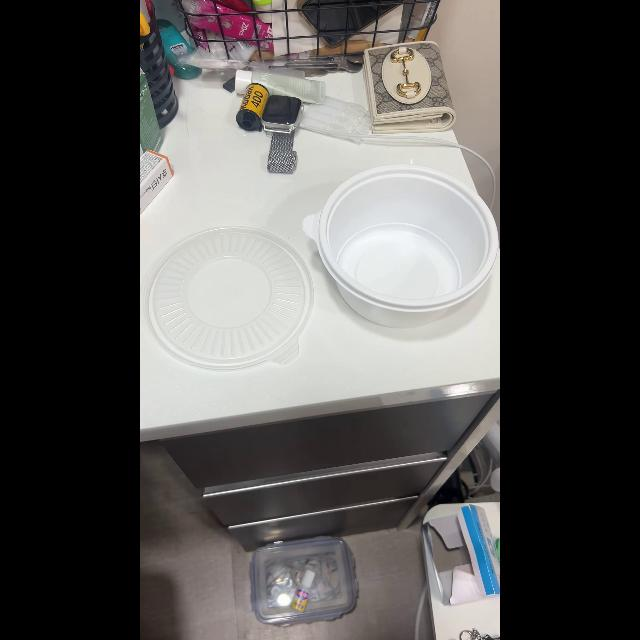clean: (303, 166, 497, 324), (141, 226, 311, 366)
